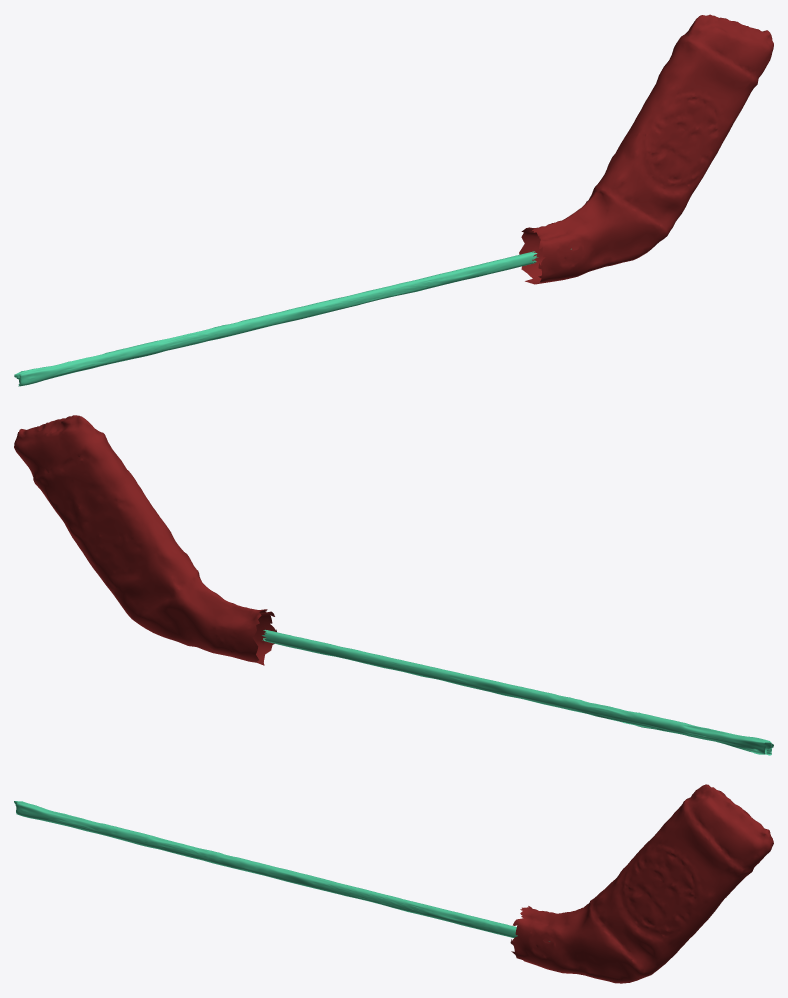
File: object_deformed_1.obj
The picture shows the model from 3 angles, top to bottom: view 1: azimuth 30°, elevation 25°; view 2: azimuth 150°, elevation 25°; view 3: azimuth 330°, elevation 25°; orthographic projection. The views are drawn at different scales.
Bounding box in the file's own units: 0.6065 × 0.1649 × 0.0398.
